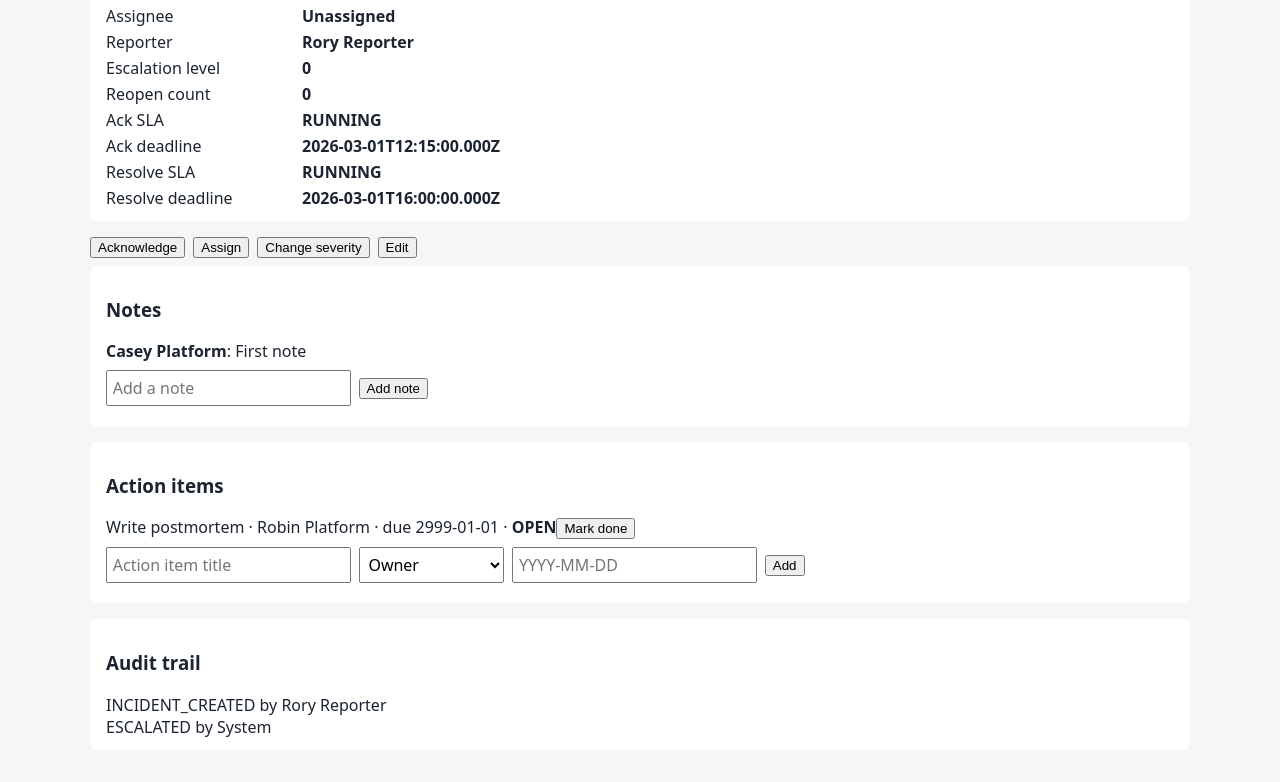
incident detail › shows ai-error with the server message when adding an action item fails
(page scrolled)
Click the button with test id "ai-add": (785, 565) [765,555,804,576]
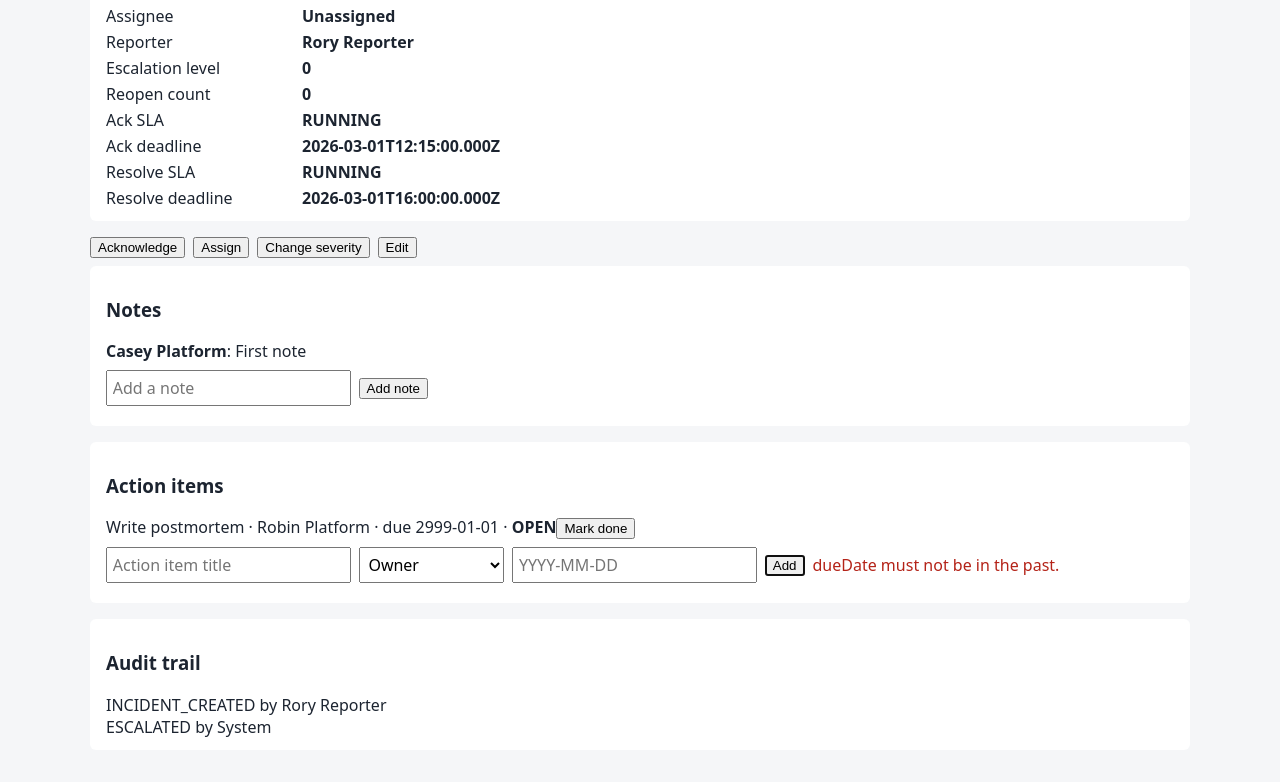
Expected: the text with test id "ai-error" reads "dueDate must not be in the past.", [812,554,1059,576]
